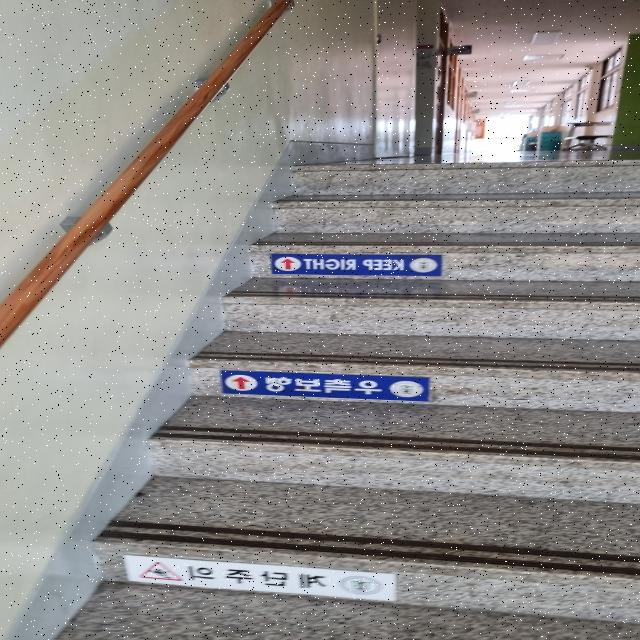logo: (335, 574, 383, 596), (388, 379, 426, 398), (408, 257, 440, 274)
